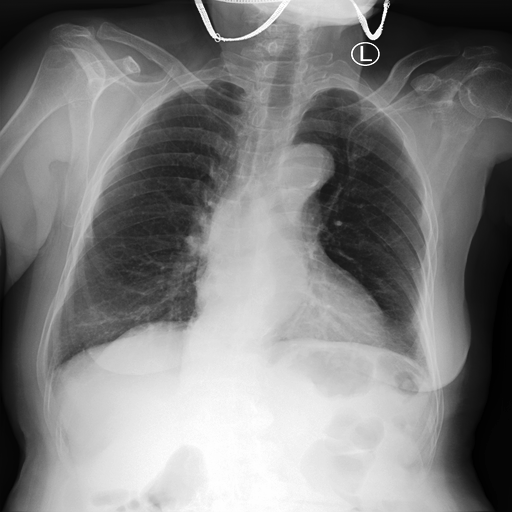Calcification: (152, 76, 237, 101)
Consolidation: (276, 131, 343, 201)
Lung Opacity: (296, 173, 327, 196)
Other lesion: (39, 319, 193, 364)
